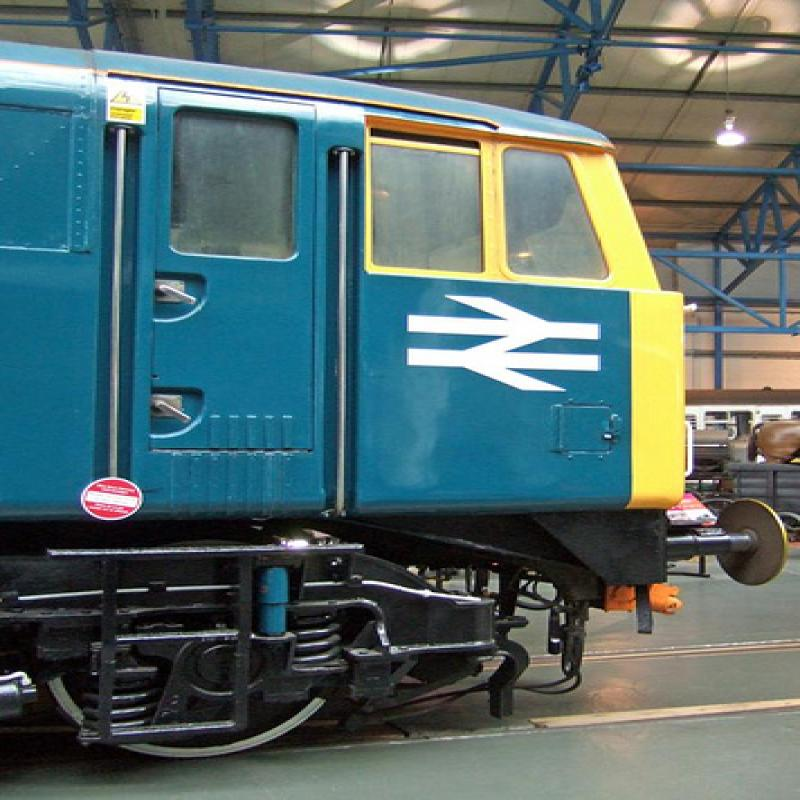train: (1, 35, 790, 761), (684, 388, 799, 489)
